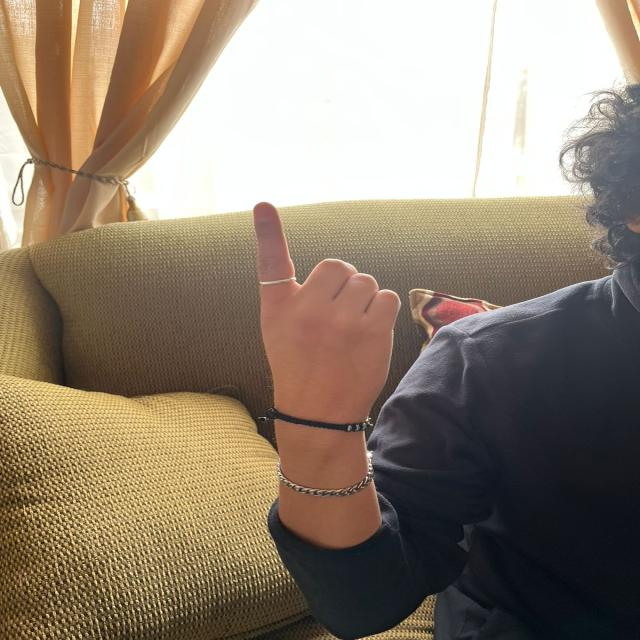T: (233, 194, 404, 427)
